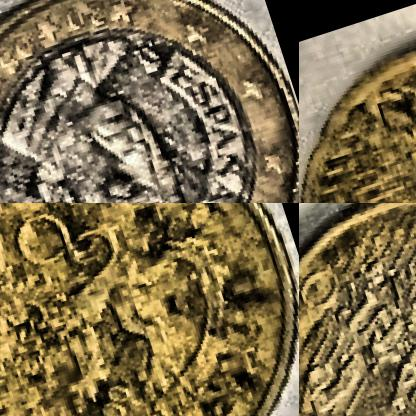coin: (0, 203, 298, 415), (0, 0, 298, 202), (299, 203, 415, 415), (299, 0, 415, 202)
